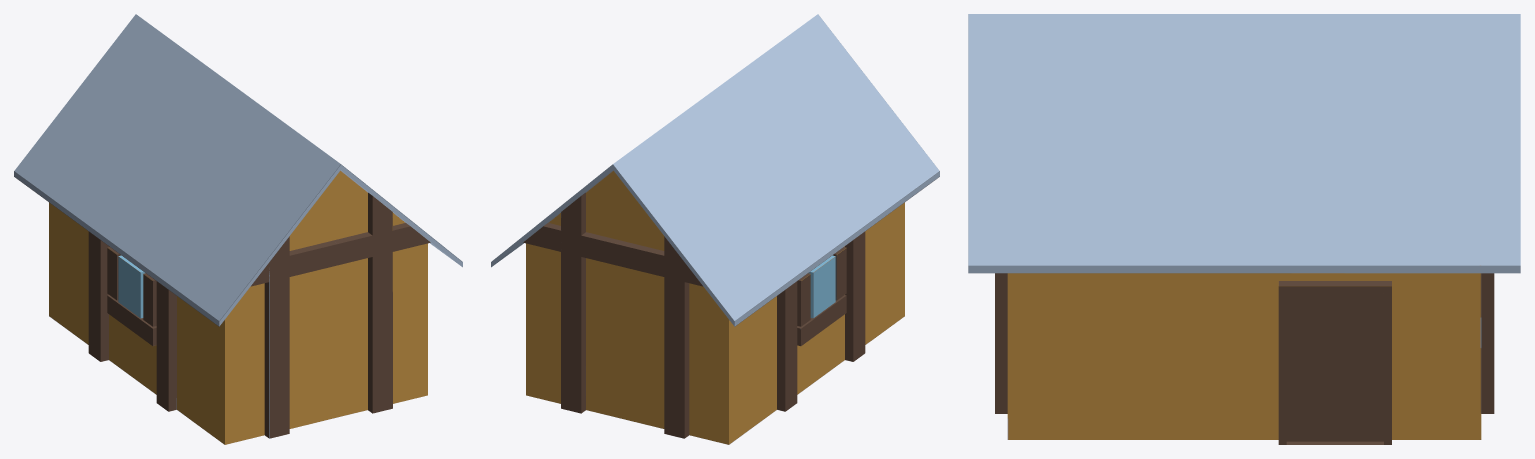
File: house_winter.glb
3 views of the same model, side by side, from view 1: azimuth 30°, elevation 25°; view 2: azimuth 150°, elevation 25°; view 3: azimuth 270°, elevation 25° (orthographic). The views are drawn at different scales.
Parts seen in each view (by area): view 1: Cube; view 2: Cube; view 3: Cube.
Boxes of the visible parts, x1,y1,x2,y2 form: Cube: (14,14,462,444); Cube: (491,14,939,444); Cube: (968,14,1520,444).
Size of the model in its own units: 2.4 by 2.51 by 3.5.
4 materials, 4 textured.
